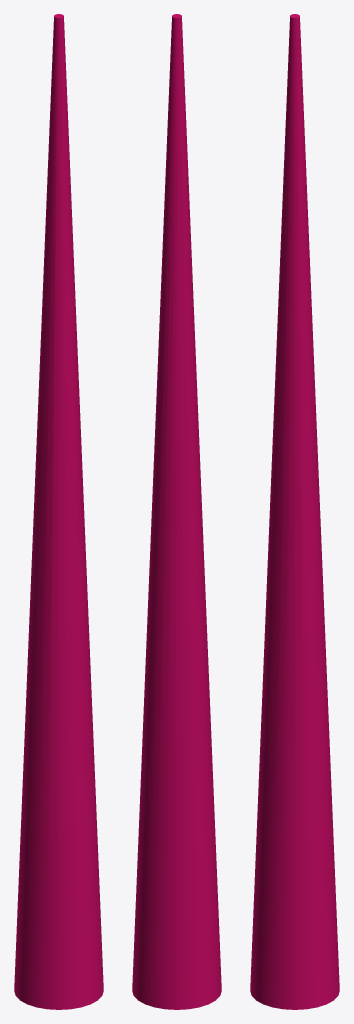
File: bar2.dae
The picture shows the model from 3 angles, left to right: view 1: azimuth 90°, elevation 25°; view 2: azimuth 150°, elevation 25°; view 3: azimuth 270°, elevation 25°; orthographic projection.
Visible parts, largest first — view 1: SketchUp; view 2: SketchUp; view 3: SketchUp.
Boxes of the visible parts, x1,y1,x2,y2 form: SketchUp: [14, 14, 103, 1009]; SketchUp: [132, 14, 221, 1009]; SketchUp: [250, 14, 339, 1009].
Size of the model in its own units: 0.5 by 0.5 by 6.
1 material, 1 textured.
